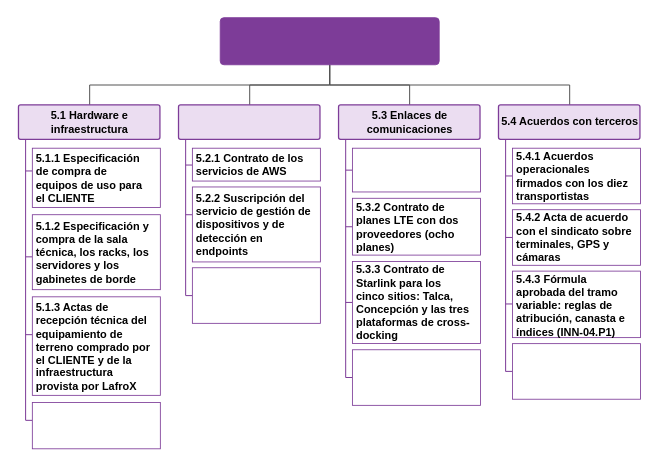
Some shapes in this 658 by 467 pixel diagram are drawn without their labels. Here are the shapes that lost their labels. From the top down, the centre of each, then its label:
At point 329,41: "5. Adquisiciones y contrataciones".
At point 248,122: "5.2 Servicios de nube y licencias".
At point 415,169: "5.3.1 Contrato de fibra óptica de los CD de Talca y Concepción".
At point 255,295: "5.2.3 Licencias de software de terceros constituidas a nombre del CLIENTE".
At point 415,377: "5.3.4 Contrato de SIM M2M y servicio satelital de los camiones con frío".
At point 576,371: "5.4.4 Contrato de custodia de fuentes con un tercero independiente".
At point 95,425: "5.1.4 Especificación y compra del sistema de cadena de frío".
